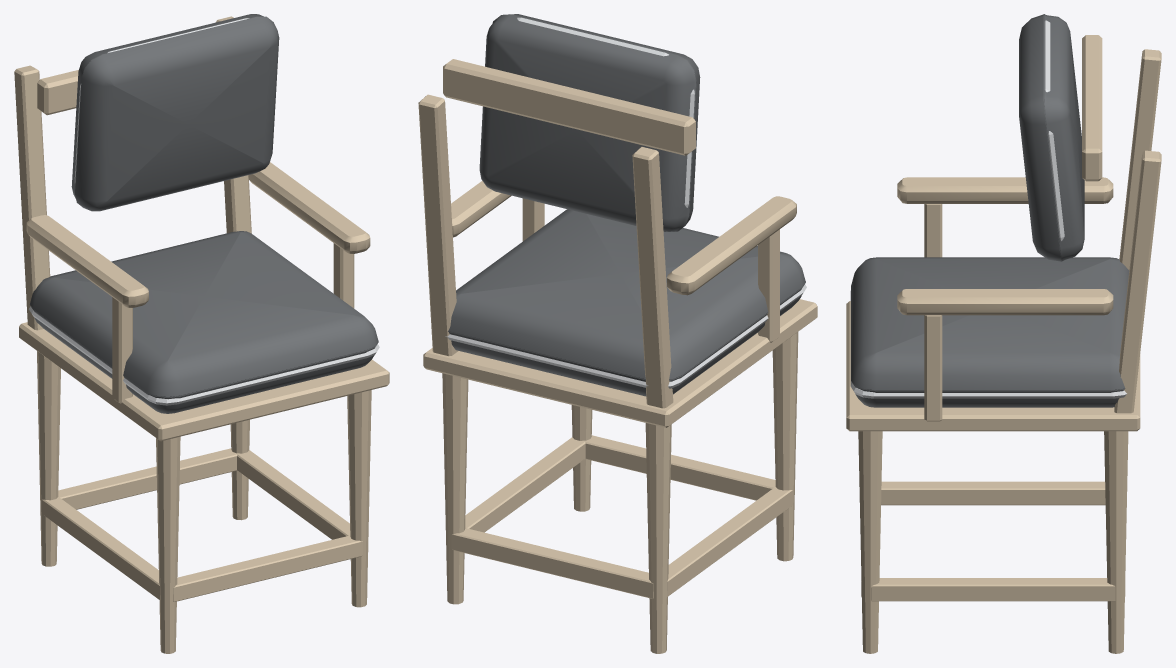
Rendered from clinic-and-veterinary-practice-patient-chair-dark-7b10e27d__16750.glb.
3 renders of one model, left to right at view 1: azimuth 30°, elevation 25°; view 2: azimuth 150°, elevation 25°; view 3: azimuth 270°, elevation 25°, orthographic. The views are drawn at different scales.
Visible parts, largest first — view 1: patient-chair-dark; view 2: patient-chair-dark; view 3: patient-chair-dark.
Part boxes in pixels (x1=…): patient-chair-dark: x1=14, y1=14, x2=389, y2=653; patient-chair-dark: x1=418, y1=14, x2=817, y2=653; patient-chair-dark: x1=846, y1=14, x2=1161, y2=653.
Bounding box in the file's own units: 0.49 × 1.01 × 0.5255.
